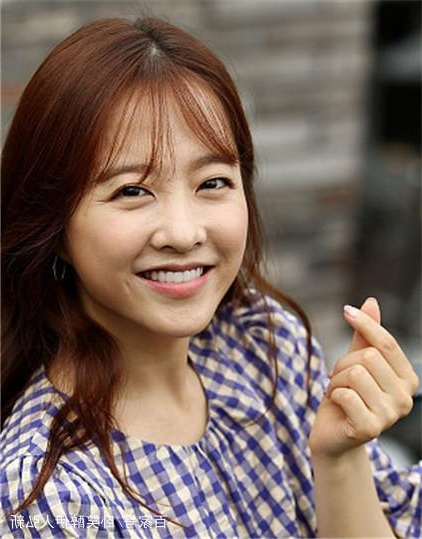oneheart: (298, 290, 422, 414)
